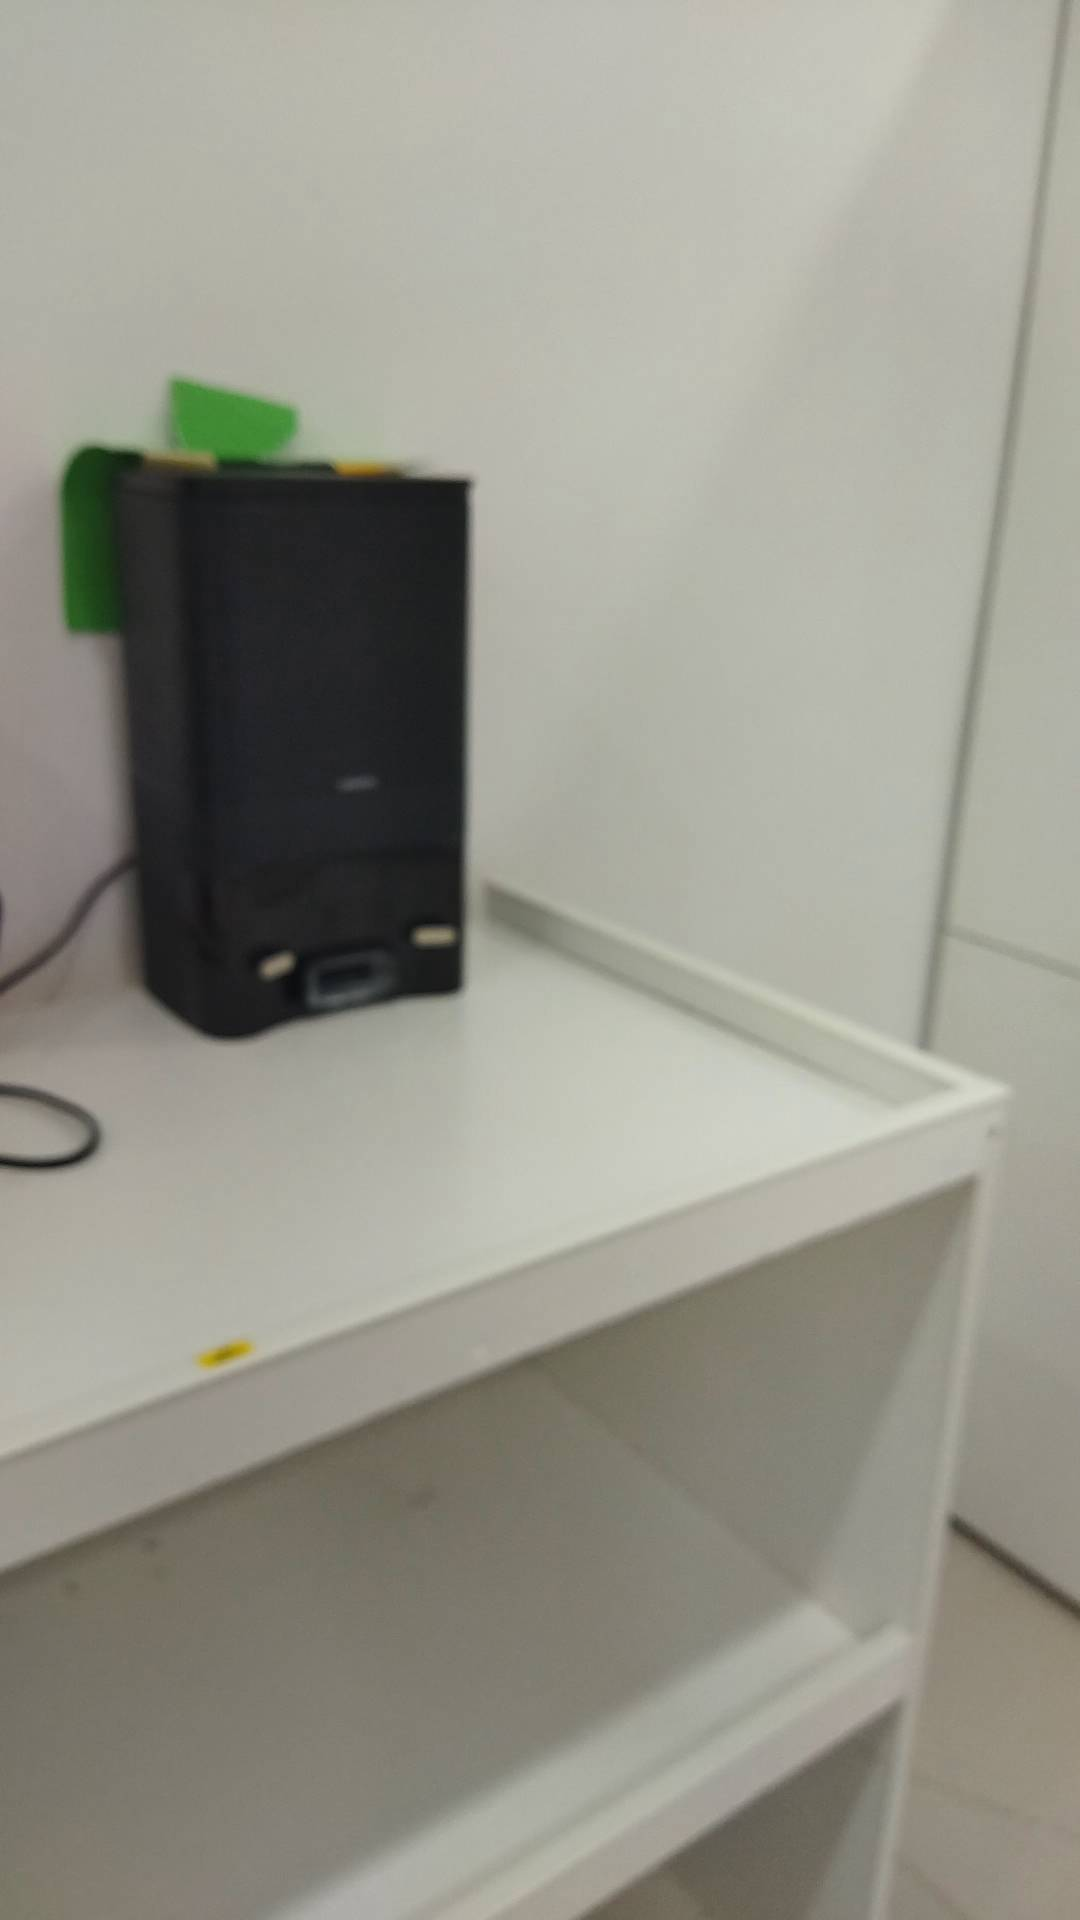dust collecting barrel: (111, 462, 476, 1043)
